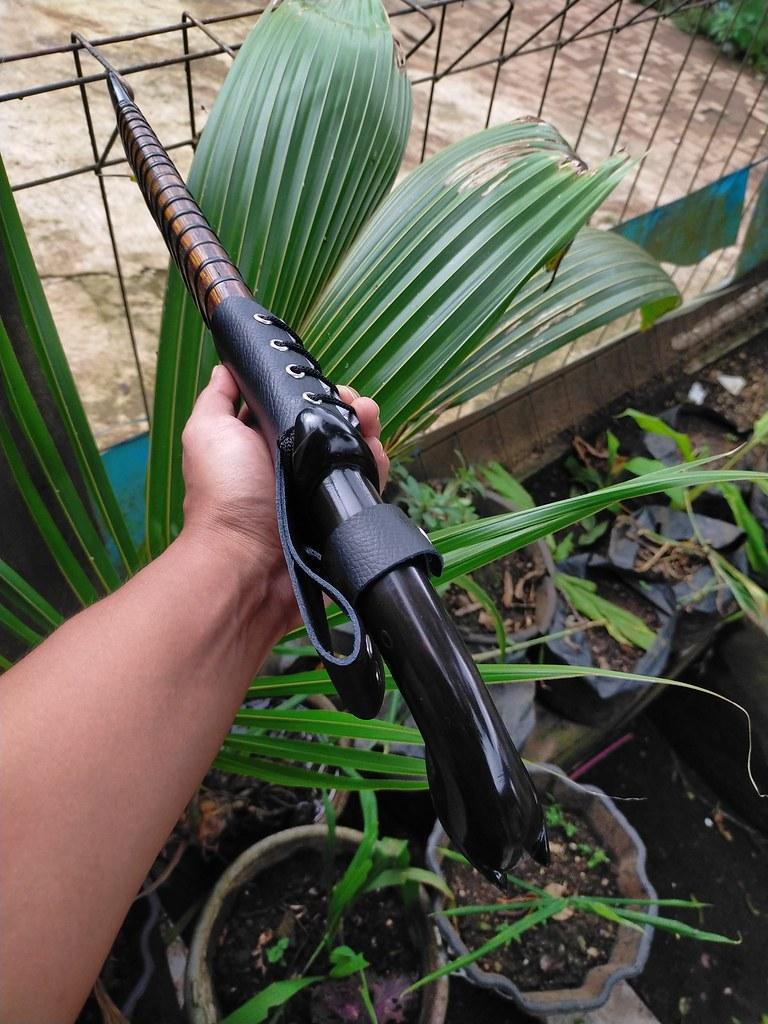facao: (106, 64, 548, 888)
